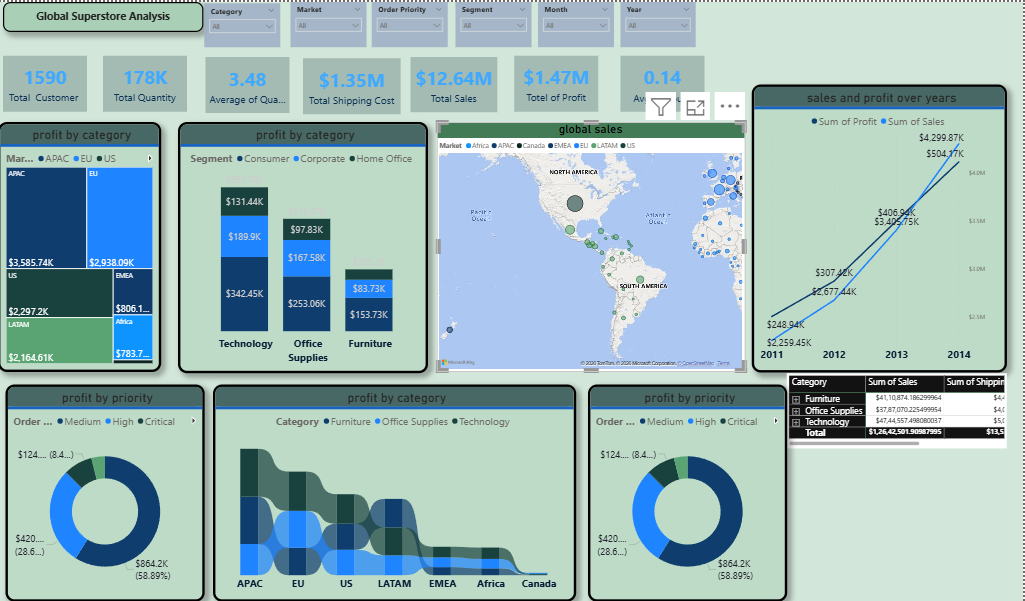

What the dashboard file says about the page in this screenshot:
{"tool":"powerbi","page":{"name":"Global sales Dashbord","canvas":[2050,1200],"ordinal":18},"visuals":[{"type":"textbox","box":[10,0,401,60],"z":0},{"type":"slicer","fields":{"Values":["Global_Superstore2.Category"]},"box":[412,2,152,88],"z":1},{"type":"slicer","fields":{"Values":["Global_Superstore2.Market"]},"box":[584,0,152,90],"z":2},{"type":"slicer","fields":{"Values":["Global_Superstore2.Order Priority"]},"box":[748,0,152,90],"z":3},{"type":"slicer","fields":{"Values":["Global_Superstore2.Segment"]},"box":[914,0,152,90],"z":4},{"type":"slicer","fields":{"Values":["Global_Superstore2.Order Date.Variation.Date Hierarchy.Month"]},"box":[1080,0,152,90],"z":5},{"type":"slicer","fields":{"Values":["Global_Superstore2.Order Date.Variation.Date Hierarchy.Year"]},"box":[1246,0,150,90],"z":6},{"type":"card","fields":{"Values":["Sum(Global_Superstore2.Profit)"]},"box":[1031.7,108.3,168.3,111.7],"z":7},{"type":"card","fields":{"Values":["Sum(Global_Superstore2.Sales)"]},"box":[825,110,173.3,110],"z":8},{"type":"card","fields":{"Values":["Sum(Global_Superstore2.Quantity)"]},"box":[210,108.3,168.3,111.7],"z":9},{"type":"card","fields":{"Values":["Avg(Global_Superstore2.Quantity)"]},"box":[415,110,168.3,111.7],"z":10},{"type":"card","fields":{"Values":["Sum(Global_Superstore2.Shipping Cost)"]},"box":[610,111.7,195,111.7],"z":11},{"type":"card","fields":{"Values":["Count(Global_Superstore2.Customer ID)"]},"box":[10,108.3,168.3,111.7],"z":12},{"type":"card","fields":{"Values":["Avg(Global_Superstore2.Discount)"]},"box":[1246,108,168,112],"z":13},{"type":"columnChart","title":"profit by category","fields":{"Y":["Sum(Global_Superstore2.Profit)"],"Category":["Global_Superstore2.Category"],"Series":["Global_Superstore2.Segment"]},"box":[360,240,500,502],"z":14},{"type":"lineChart","title":"sales and profit over years","fields":{"Category":["Global_Superstore2.Order Date.Variation.Date Hierarchy.Year"],"Y":["Sum(Global_Superstore2.Profit)"],"Y2":["Sum(Global_Superstore2.Sales)"]},"box":[1508,164,510,576],"z":15},{"type":"pivotTable","fields":{"Values":["Sum(Global_Superstore2.Sales)","Sum(Global_Superstore2.Shipping Cost)","Sum(Global_Superstore2.Profit)"],"Rows":["Global_Superstore2.Category","Global_Superstore2.Sub-Category"]},"box":[1578,742,440,150],"z":16},{"type":"map","title":"global sales ","fields":{"Category":["Global_Superstore2.Country"],"Size":["Sum(Global_Superstore2.Sales)"],"Series":["Global_Superstore2.Market"]},"box":[878,240,616,500],"z":17},{"type":"treemap","title":"profit by category","fields":{"Group":["Global_Superstore2.Market"],"Values":["Sum(Global_Superstore2.Sales)"]},"box":[0,240,326,500],"z":18},{"type":"donutChart","title":"profit by priority","fields":{"Y":["Sum(Global_Superstore2.Profit)"],"Category":["Global_Superstore2.Order Priority"]},"box":[14,766,398,434],"z":19},{"type":"donutChart","title":"profit by priority","fields":{"Y":["Sum(Global_Superstore2.Profit)"],"Category":["Global_Superstore2.Order Priority"]},"box":[1180,766,398,434],"z":20},{"type":"ribbonChart","title":"profit by category","fields":{"Category":["Global_Superstore2.Market"],"Y":["Sum(Global_Superstore2.Sales)"],"Series":["Global_Superstore2.Category"]},"box":[430,766,726,434],"z":21}]}

Visuals, with their boxes in screenshot pixels (x1, y1, x2, y2), scaled from the page's 2050x1200 canvas onto the 1025x601 screenshot:
textbox: detection(5, 0, 206, 30)
slicer - Global_Superstore2.Category: detection(206, 1, 282, 45)
slicer - Global_Superstore2.Market: detection(292, 0, 368, 45)
slicer - Global_Superstore2.Order Priority: detection(374, 0, 450, 45)
slicer - Global_Superstore2.Segment: detection(457, 0, 533, 45)
slicer - Global_Superstore2.Order Date.Variation.Date Hierarchy.Month: detection(540, 0, 616, 45)
slicer - Global_Superstore2.Order Date.Variation.Date Hierarchy.Year: detection(623, 0, 698, 45)
card - Sum(Global_Superstore2.Profit): detection(516, 54, 600, 110)
card - Sum(Global_Superstore2.Sales): detection(412, 55, 499, 110)
card - Sum(Global_Superstore2.Quantity): detection(105, 54, 189, 110)
card - Avg(Global_Superstore2.Quantity): detection(208, 55, 292, 111)
card - Sum(Global_Superstore2.Shipping Cost): detection(305, 56, 402, 112)
card - Count(Global_Superstore2.Customer ID): detection(5, 54, 89, 110)
card - Avg(Global_Superstore2.Discount): detection(623, 54, 707, 110)
"profit by category" columnChart: detection(180, 120, 430, 372)
"sales and profit over years" lineChart: detection(754, 82, 1009, 371)
pivotTable - Sum(Global_Superstore2.Sales) x Sum(Global_Superstore2.Shipping Cost): detection(789, 372, 1009, 447)
"global sales " map: detection(439, 120, 747, 371)
"profit by category" treemap: detection(0, 120, 163, 371)
"profit by priority" donutChart: detection(7, 384, 206, 600)
"profit by priority" donutChart: detection(590, 384, 789, 600)
"profit by category" ribbonChart: detection(215, 384, 578, 600)
